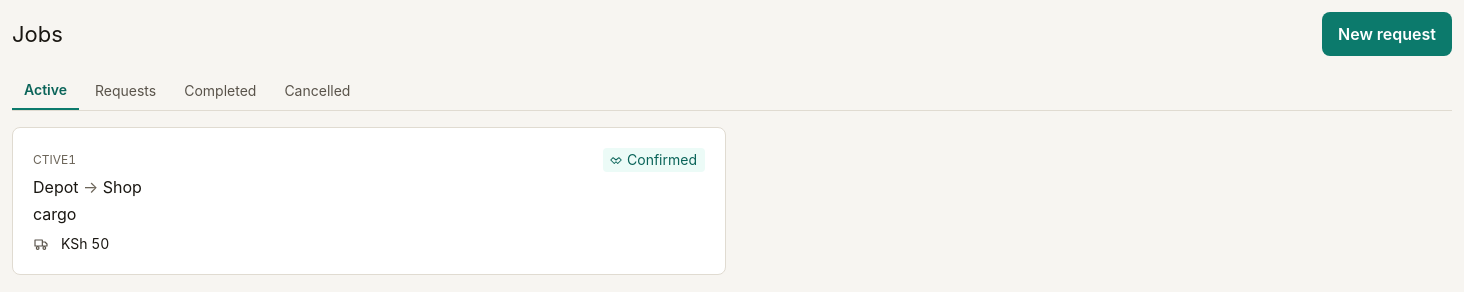
it: JobsListPage › shows the Active segment by default and switches to Completed on tap
Check: the text "CTIVE1" is shown, box [33,152,76,168]
Check: the text "DONEDN" is not shown
Step 1. Click the tab "Completed" → x=220, y=91, box [172,72,268,110]
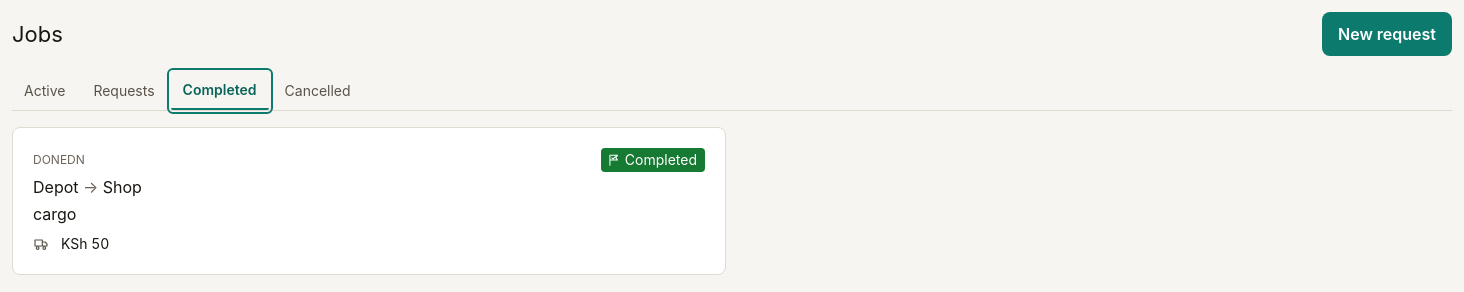
Check: the text "DONEDN" is shown, box [33,152,85,168]
Check: the button "CTIVE1" is gone
